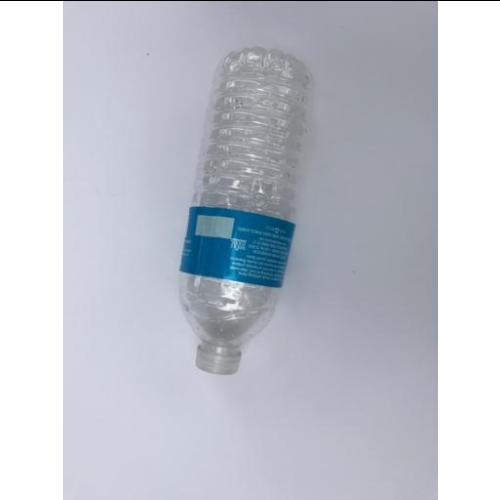plastic: (176, 46, 312, 375)
